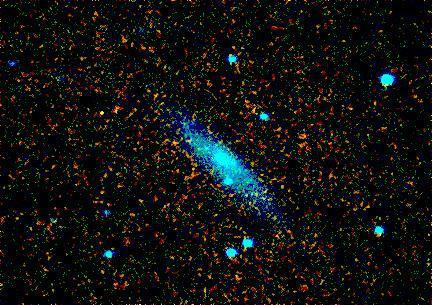star: (87, 96, 117, 126)
